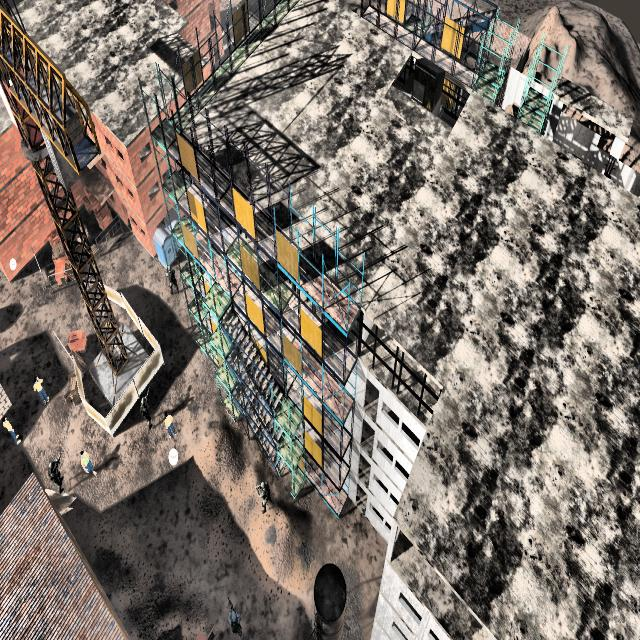bad: (250, 462, 274, 520), (220, 592, 245, 640), (47, 452, 66, 501), (136, 395, 154, 435), (165, 263, 180, 296)
good: (31, 369, 53, 417), (75, 440, 98, 483), (162, 404, 178, 447), (2, 418, 23, 448)
